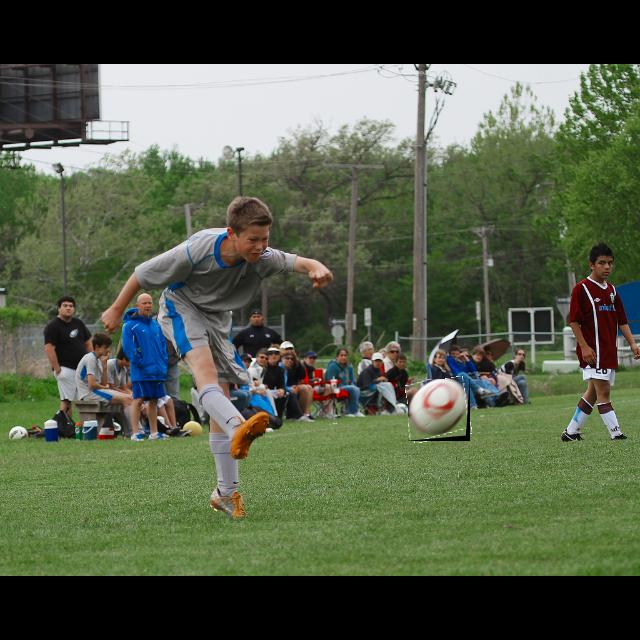Football: (408, 379, 470, 441)
